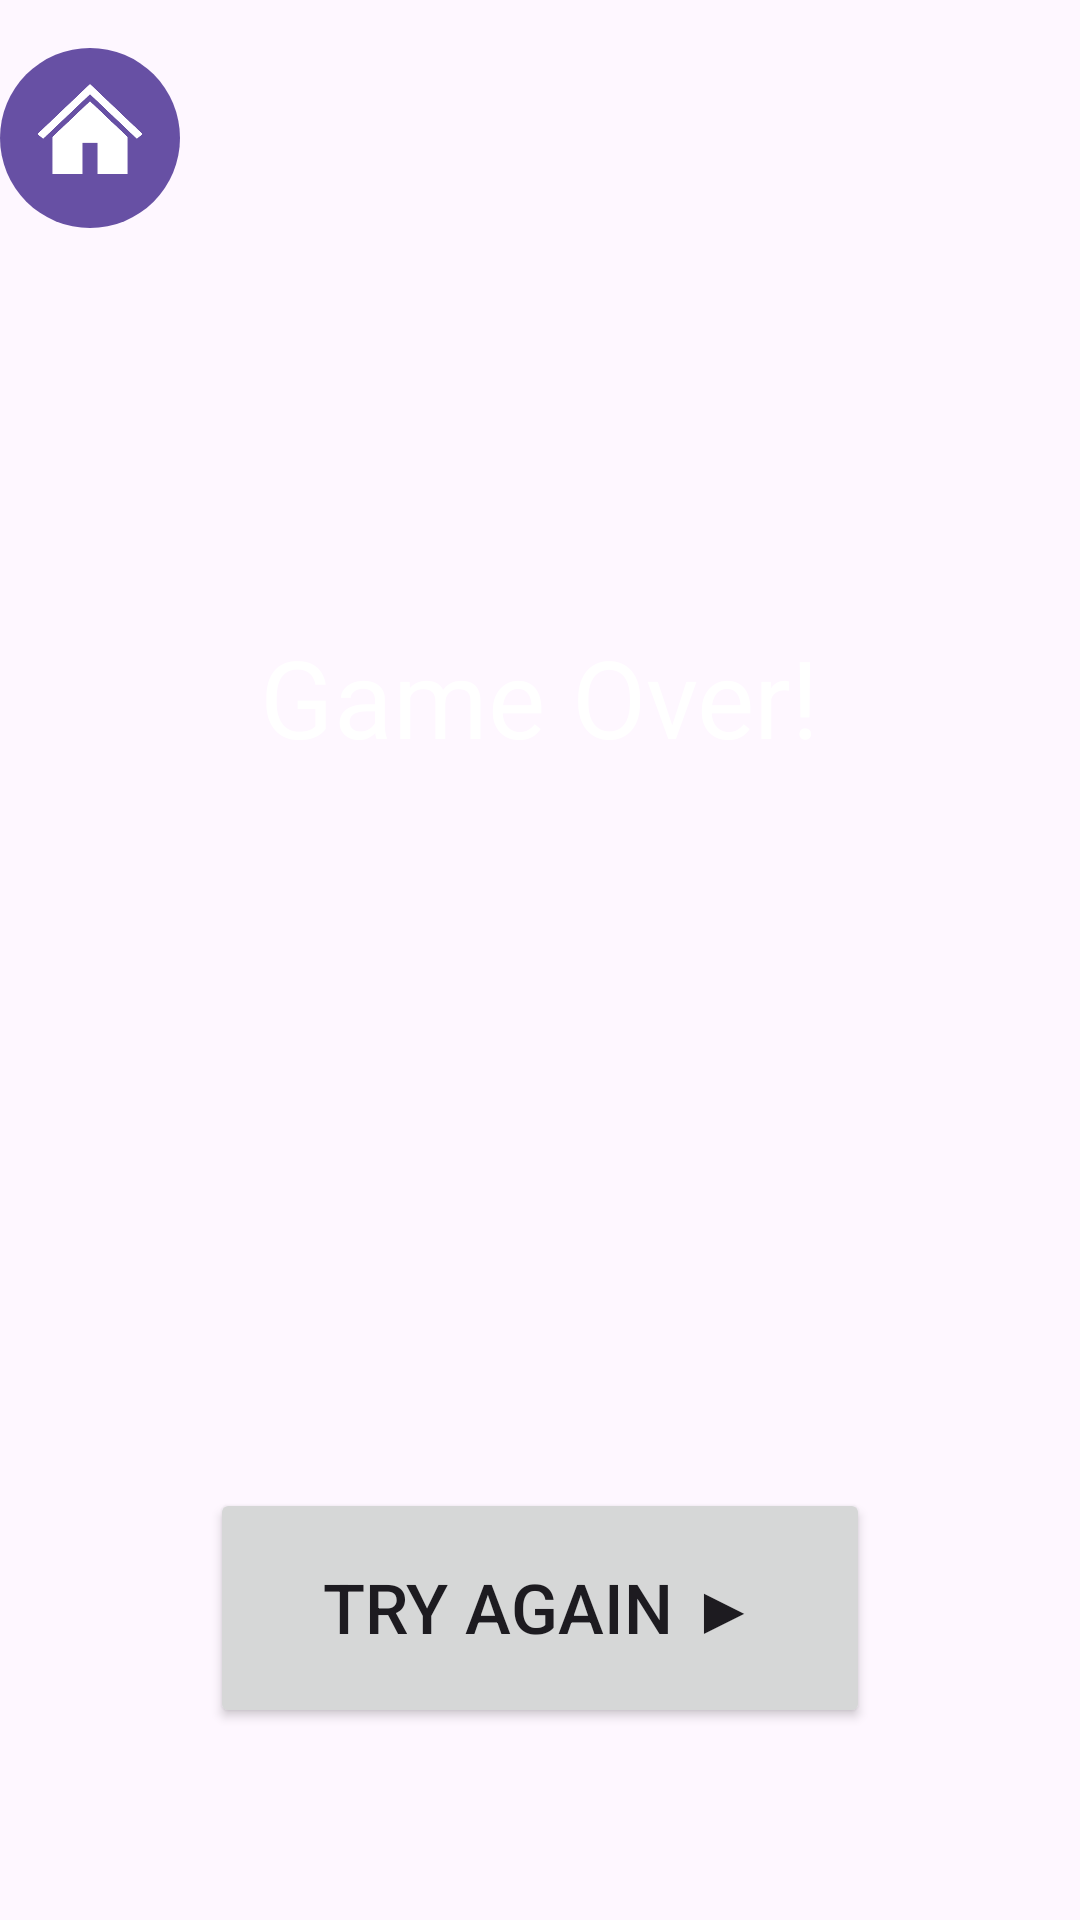

Icon click points for this 1080 x 1920 phone screenshot, format point (x, y):
Home Icon: point (90, 129)
